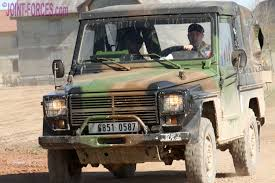license_plate: (88, 120, 139, 134)
